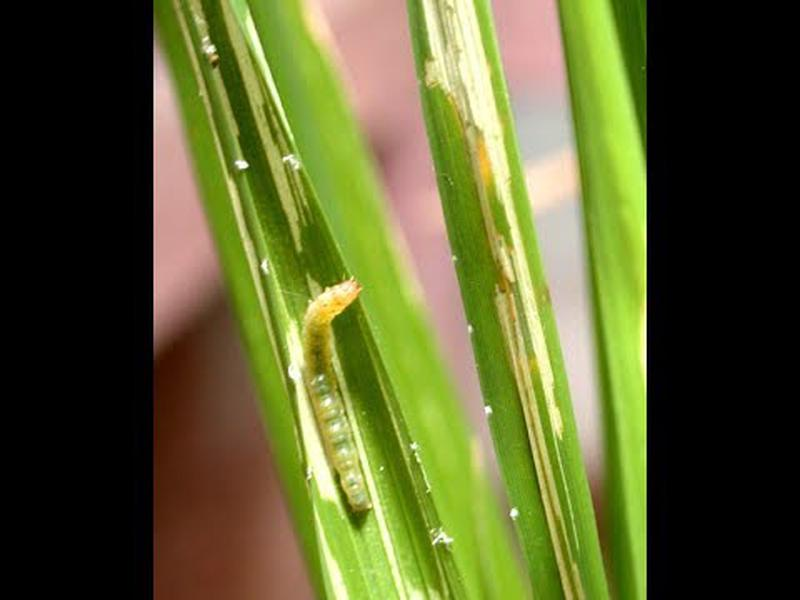Leaf_folder: (276, 274, 391, 524)
